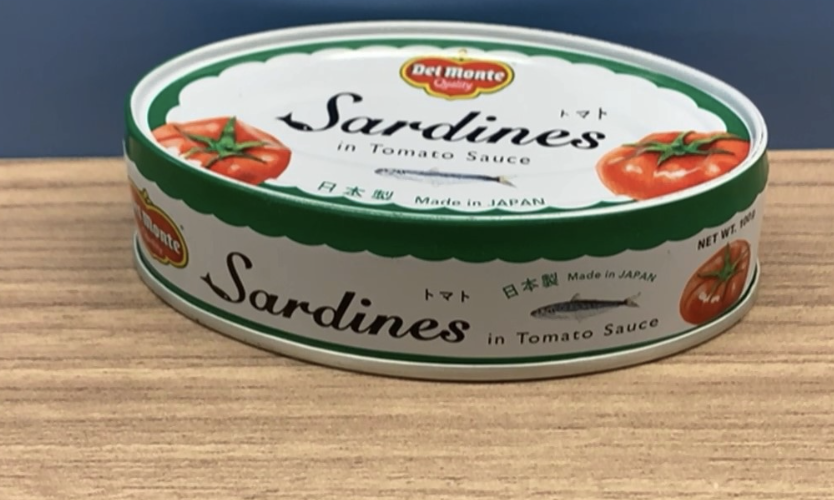sardines_150g: (169, 46, 746, 338)
